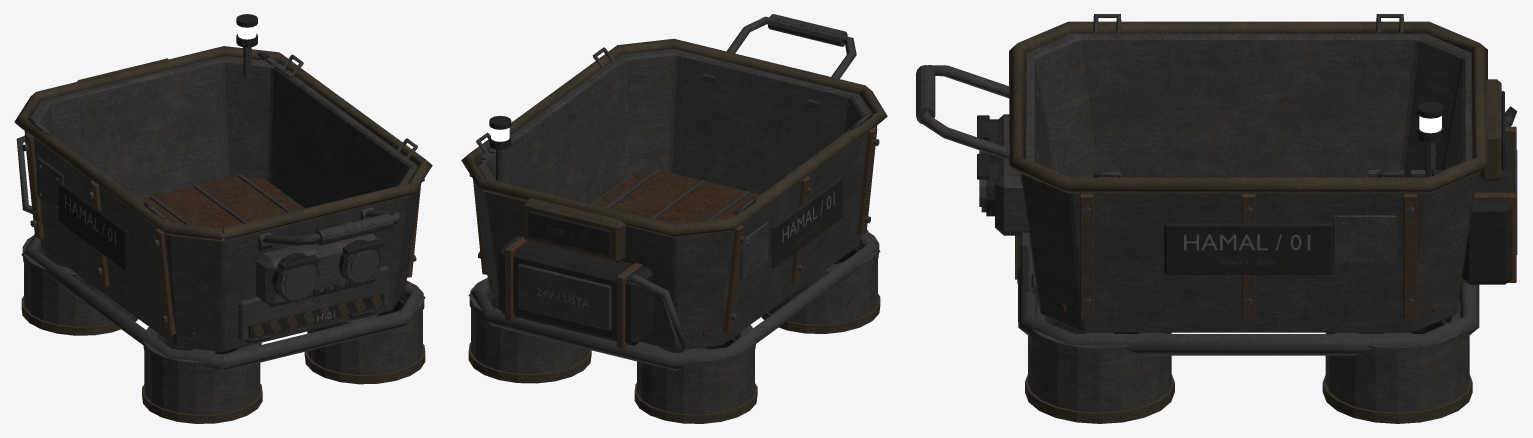
The model's file is hamal.glb.
3 views of the same model, side by side, from view 1: azimuth 30°, elevation 25°; view 2: azimuth 150°, elevation 25°; view 3: azimuth 270°, elevation 25° (orthographic). The views are drawn at different scales.
Parts seen in each view (by area): view 1: Chassis_Visual, Thruster_L_Front_Visual, Sensor_Head_Visual, Thruster_R_Front_Visual, Front_Service_Hatch_Pivot_Visual, Thruster_L_Rear_Visual, Pull_Handle_Pivot_Visual; view 2: Chassis_Visual, Thruster_L_Rear_Visual, Thruster_R_Rear_Visual, Thruster_L_Front_Visual, Cargo_Display_Visual, Pull_Handle_Pivot_Visual; view 3: Chassis_Visual, Thruster_R_Rear_Visual, Thruster_R_Front_Visual, Sensor_Head_Visual, Pull_Handle_Pivot_Visual, Cargo_Display_Visual, Front_Service_Hatch_Pivot_Visual.
Part boxes in pixels (left/top/right/bottom): Chassis_Visual: left=14, top=14, right=432, bottom=371; Thruster_L_Front_Visual: left=142, top=327, right=262, bottom=423; Sensor_Head_Visual: left=256, top=233, right=382, bottom=307; Thruster_R_Front_Visual: left=304, top=280, right=425, bottom=384; Front_Service_Hatch_Pivot_Visual: left=238, top=265, right=389, bottom=343; Thruster_L_Rear_Visual: left=21, top=234, right=137, bottom=335; Pull_Handle_Pivot_Visual: left=257, top=207, right=401, bottom=250; Chassis_Visual: left=461, top=38, right=887, bottom=370; Thruster_L_Rear_Visual: left=634, top=325, right=757, bottom=423; Thruster_R_Rear_Visual: left=468, top=278, right=591, bottom=383; Thruster_L_Front_Visual: left=761, top=231, right=880, bottom=333; Cargo_Display_Visual: left=523, top=198, right=625, bottom=262; Pull_Handle_Pivot_Visual: left=703, top=14, right=856, bottom=109; Chassis_Visual: left=1009, top=14, right=1517, bottom=355; Thruster_R_Rear_Visual: left=1322, top=301, right=1472, bottom=423; Thruster_R_Front_Visual: left=1025, top=301, right=1174, bottom=423; Sensor_Head_Visual: left=977, top=114, right=1028, bottom=235; Pull_Handle_Pivot_Visual: left=916, top=65, right=1038, bottom=172; Cargo_Display_Visual: left=1480, top=79, right=1504, bottom=180; Front_Service_Hatch_Pivot_Visual: left=1015, top=232, right=1037, bottom=294.
Size of the model in its own units: 1.52 by 1.29 by 2.39.
13 materials, 13 textured.
